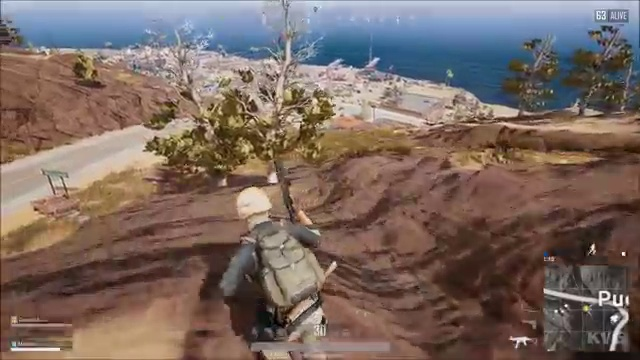Player: (180, 150, 373, 313)
